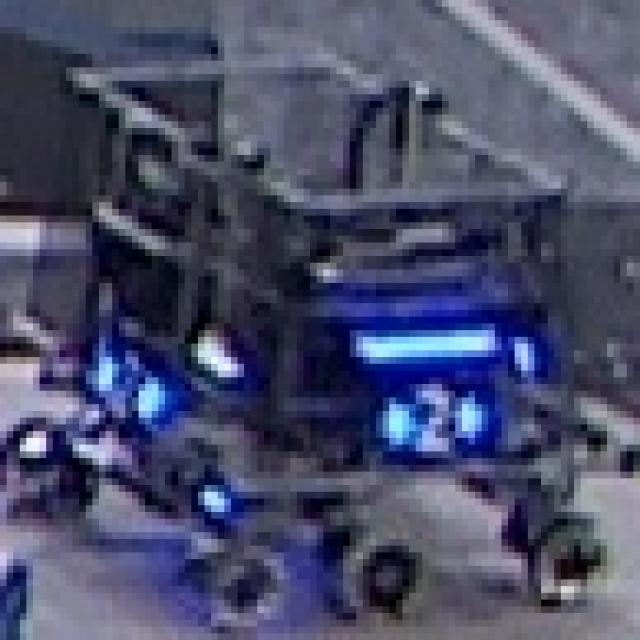B2: (376, 378, 488, 452), (92, 343, 165, 438)
